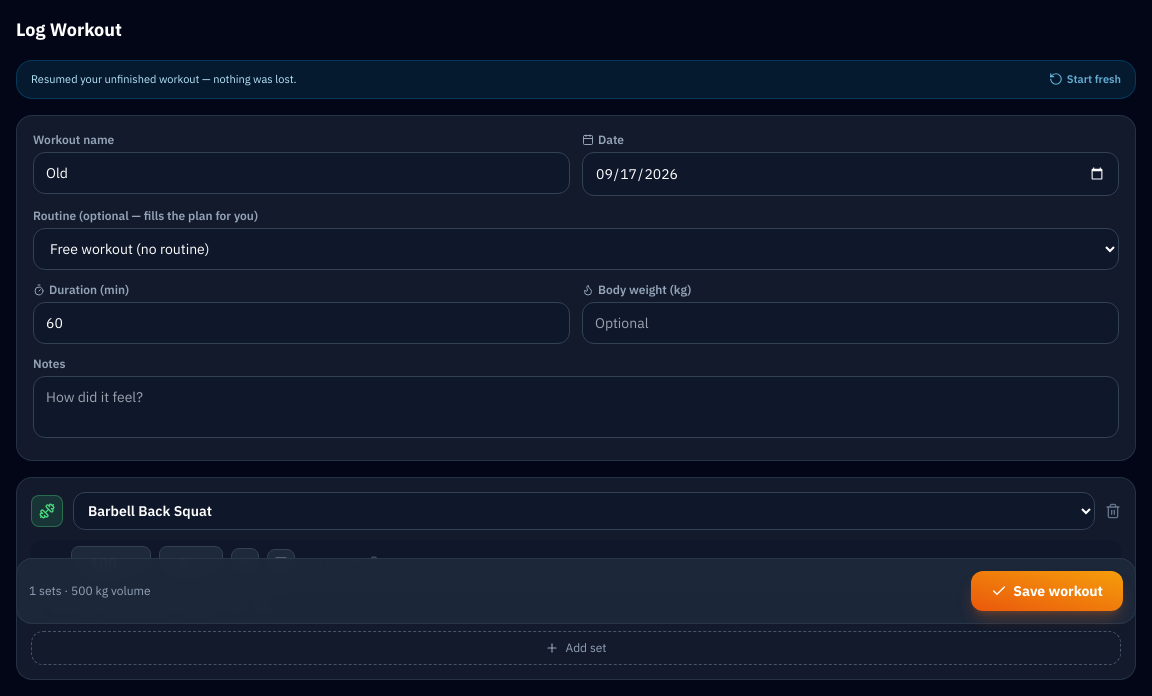
Test case: workout drafts (BUG-01, BUG-05) › "Start fresh" clears the draft
Click the button "Start fresh".
click(1085, 79)  # box [1049, 71, 1121, 88]
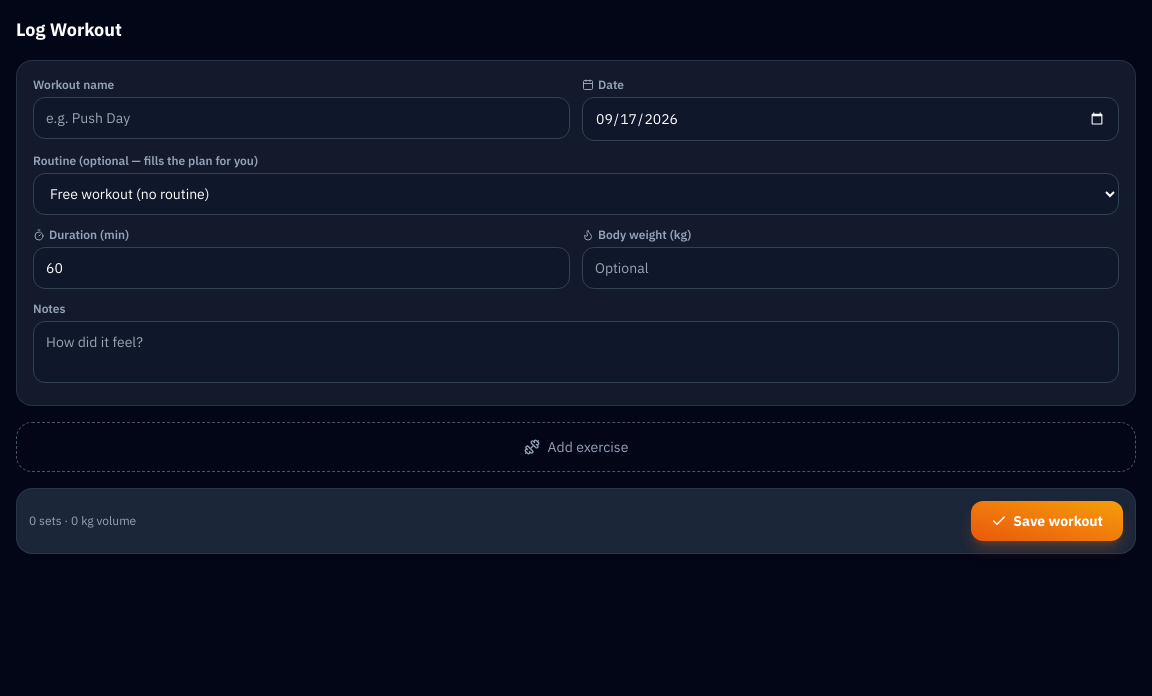
Expected: the text "Resumed your unfinished workout" is gone
